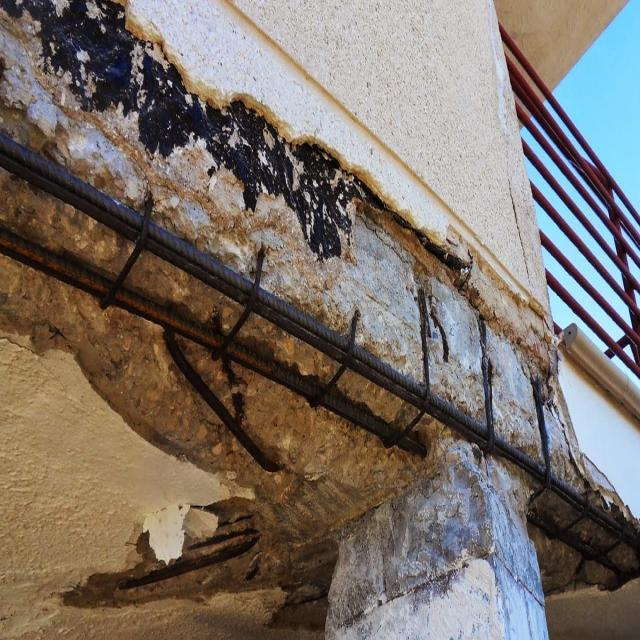spalling: (0, 4, 639, 638)
stain_mould: (1, 137, 639, 547), (5, 233, 431, 453)
